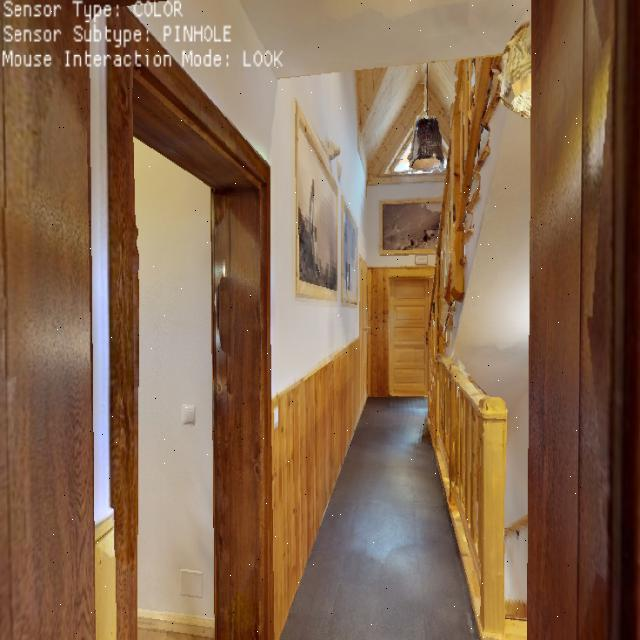door: (386, 276, 430, 386)
door-frame: (36, 0, 582, 640), (113, 69, 284, 640)
stairs: (438, 370, 530, 637)
